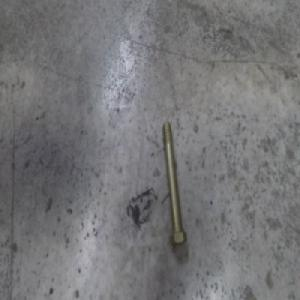Bolt: (163, 115, 190, 243)
